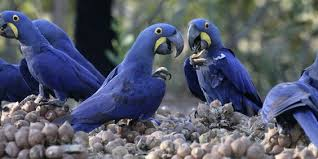guacamaya: (184, 14, 259, 120), (119, 16, 187, 130)
